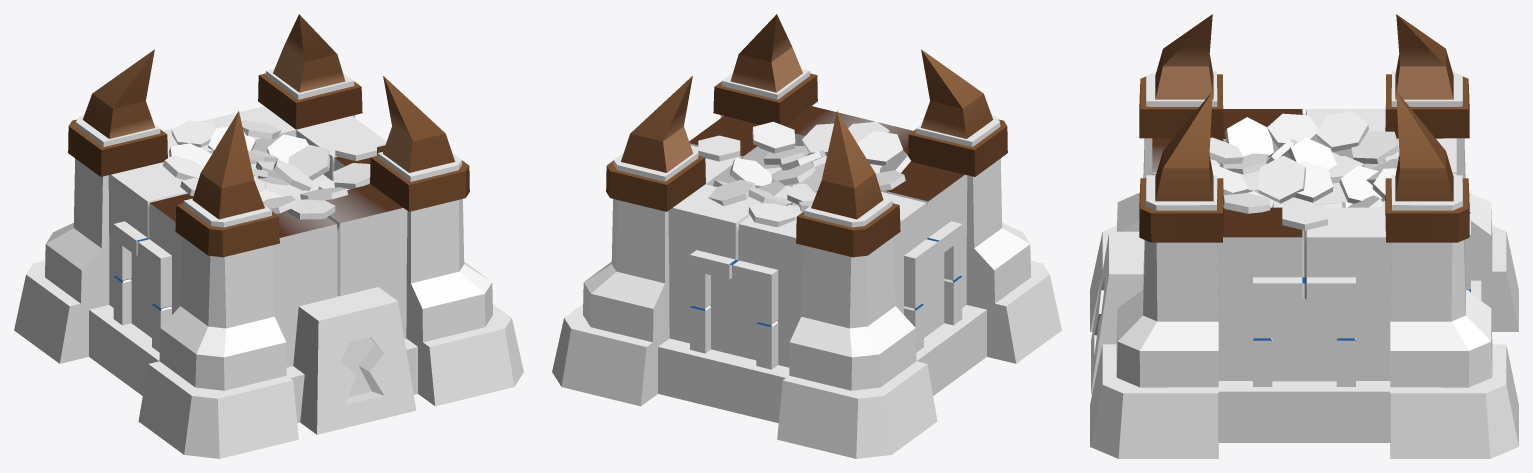
File: Building_GoldMine_Lv6.fbx
3 renders of one model, left to right at view 1: azimuth 30°, elevation 25°; view 2: azimuth 150°, elevation 25°; view 3: azimuth 270°, elevation 25°, orthographic. The views are drawn at different scales.
Parts seen in each view (by area): view 1: Building_GoldMine_Lv6, gold_3; view 2: Building_GoldMine_Lv6, gold_3; view 3: Building_GoldMine_Lv6, gold_3.
Part boxes in pixels (x1,y1,x2,y2): Building_GoldMine_Lv6: (14,14,523,458); gold_3: (162,120,376,219); Building_GoldMine_Lv6: (552,14,1061,458); gold_3: (698,121,910,227); Building_GoldMine_Lv6: (1090,14,1518,458); gold_3: (1209,111,1448,230).
Bounding box in the file's own units: 0.8846 × 0.7187 × 0.8844.
